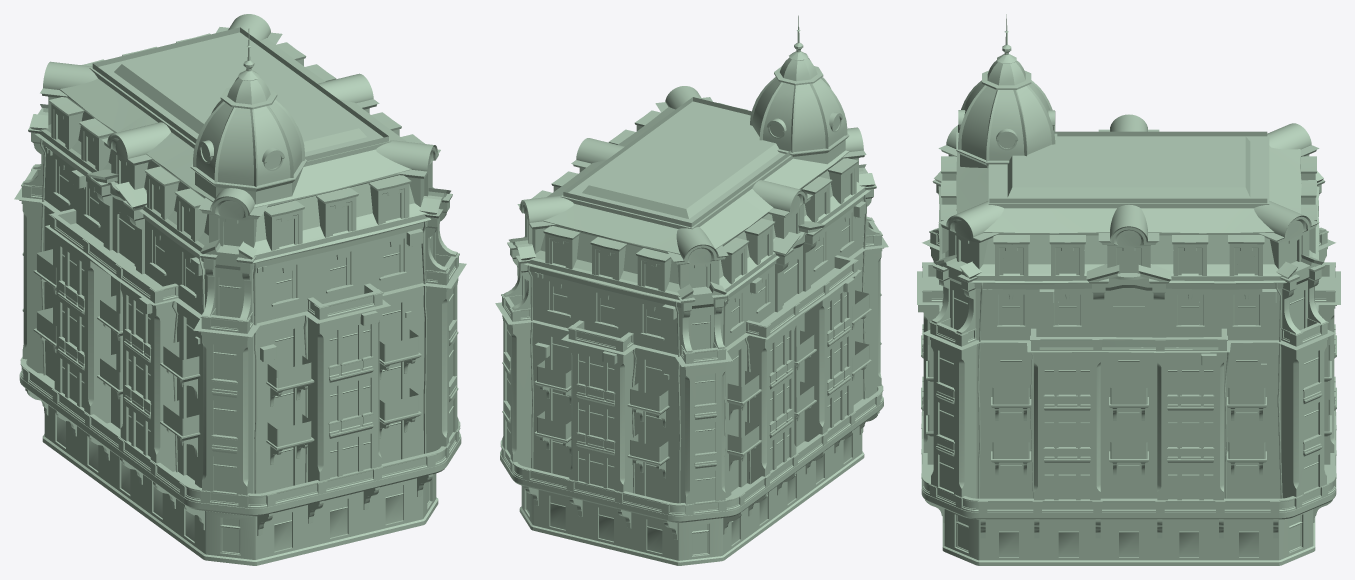
File: ornatebuild.fbx
The picture shows the model from 3 angles, left to right: view 1: azimuth 30°, elevation 25°; view 2: azimuth 150°, elevation 25°; view 3: azimuth 270°, elevation 25°; orthographic projection. The views are drawn at different scales.
Parts seen in each view (by area): view 1: ornatebuild_HL_ALEX:blank, ornatebuild_HL_ALEX:ornatebuild; view 2: ornatebuild_HL_ALEX:blank, ornatebuild_HL_ALEX:ornatebuild; view 3: ornatebuild_HL_ALEX:ornatebuild, ornatebuild_HL_ALEX:blank.
Boxes of the visible parts, bbox=[...] form: ornatebuild_HL_ALEX:blank: bbox=[20, 14, 461, 565]; ornatebuild_HL_ALEX:ornatebuild: bbox=[14, 27, 466, 561]; ornatebuild_HL_ALEX:blank: bbox=[503, 20, 883, 565]; ornatebuild_HL_ALEX:ornatebuild: bbox=[495, 15, 888, 562]; ornatebuild_HL_ALEX:ornatebuild: bbox=[917, 14, 1340, 562]; ornatebuild_HL_ALEX:blank: bbox=[921, 45, 1336, 565].
Bounding box in the file's own units: 44.07 × 75.04 × 60.99.
